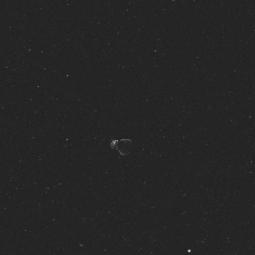debris: (106, 135, 144, 157)
